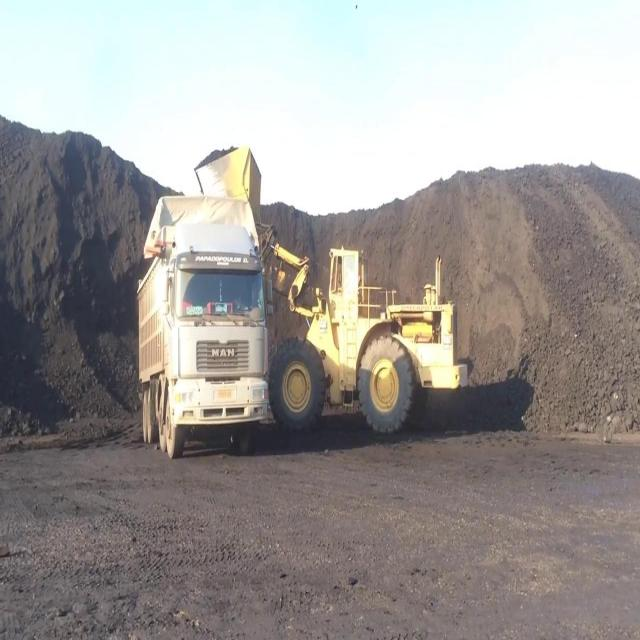buldozerpayloadergrader: (194, 142, 469, 438)
dump_truck: (134, 191, 274, 459)
